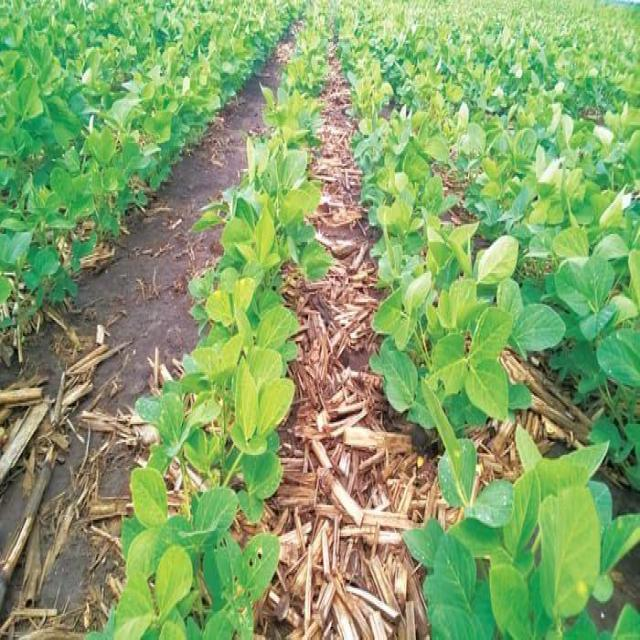row: (0, 1, 313, 638), (355, 4, 640, 640), (246, 4, 442, 639)
